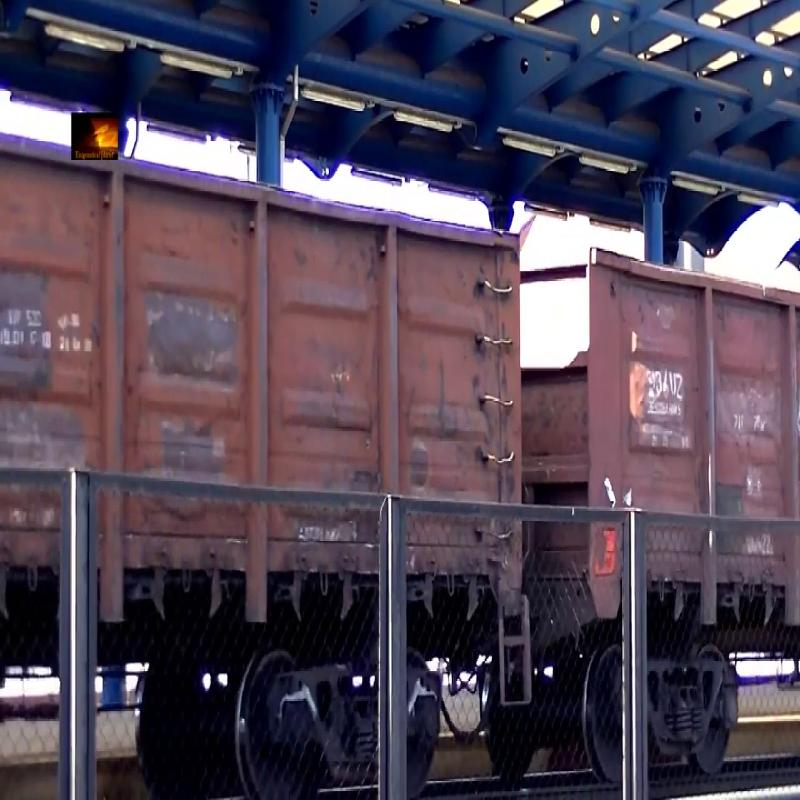train: (2, 46, 572, 766), (583, 46, 800, 765)
